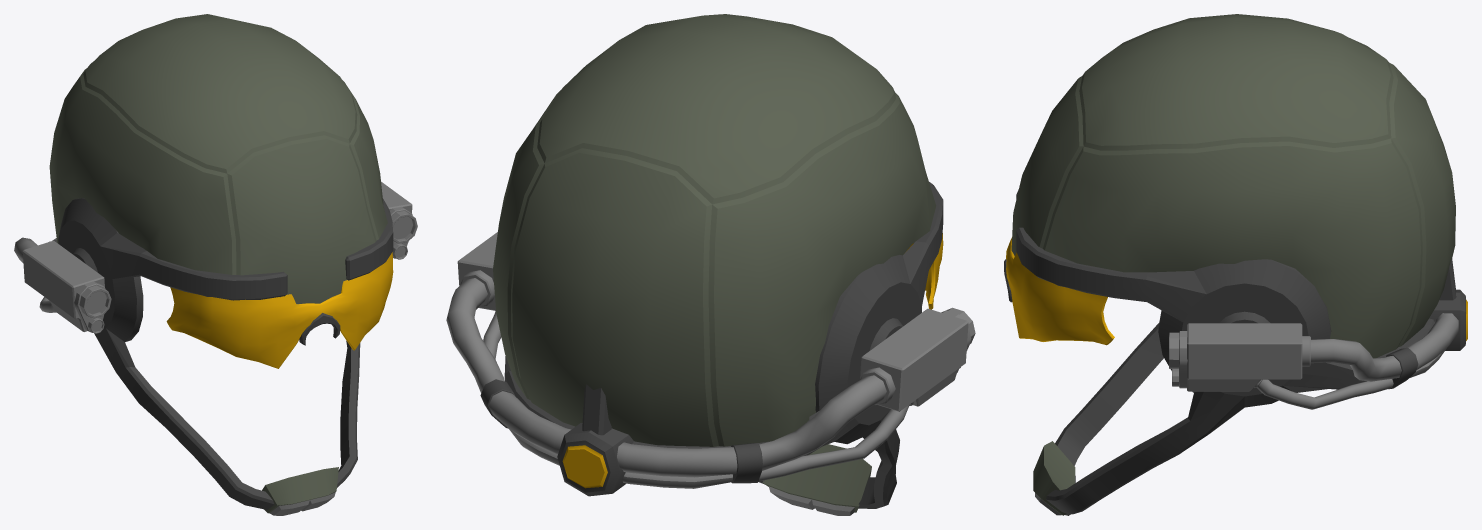
File: Helmet.fbx
3 views of the same model, side by side, from view 1: azimuth 30°, elevation 25°; view 2: azimuth 150°, elevation 25°; view 3: azimuth 270°, elevation 25° (orthographic). The views are drawn at different scales.
Visible parts, largest first — view 1: pCube24; view 2: pCube24; view 3: pCube24.
Boxes of the visible parts, <box> form: pCube24: <box>14,14,417,515</box>; pCube24: <box>446,14,975,515</box>; pCube24: <box>1004,14,1467,515</box>.
Size of the model in its own units: 23.24 by 27.06 by 24.17.
